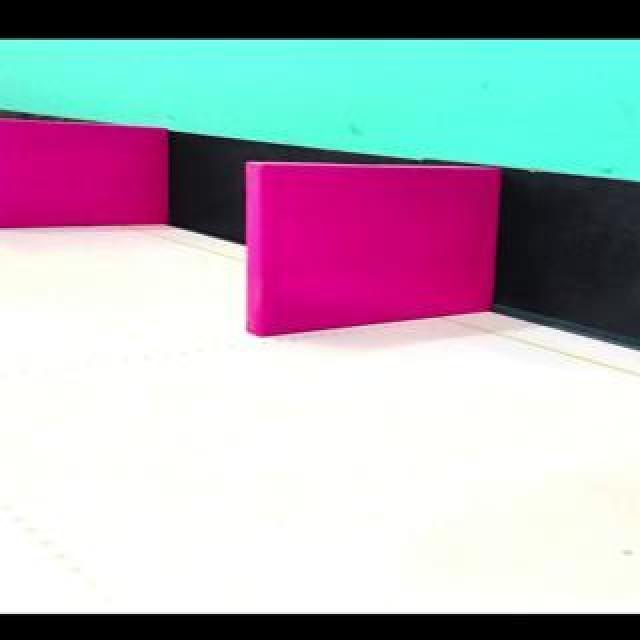xparking: (260, 168, 499, 338), (1, 128, 167, 226)
